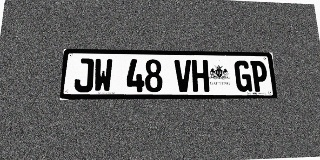4: (126, 59, 144, 92)
8: (145, 59, 162, 92)
G: (234, 60, 252, 92)
H: (191, 60, 209, 92)
J: (74, 58, 94, 92)
P: (250, 61, 269, 92)
V: (174, 60, 192, 92)
W: (93, 59, 113, 92)
